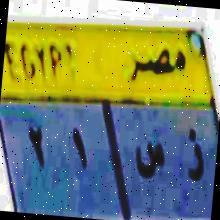1: (68, 124, 92, 178)
2: (25, 116, 51, 177)
seen: (130, 126, 172, 190)
zay: (179, 126, 209, 194)
